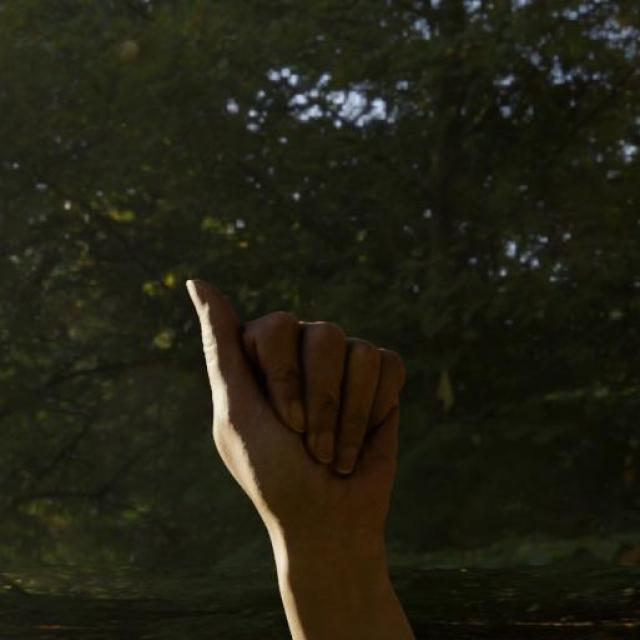A: (181, 270, 410, 545)
